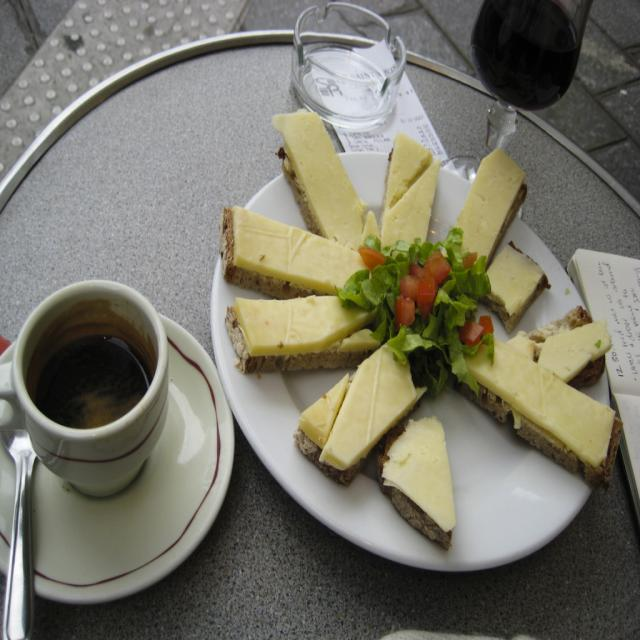Cheese: (462, 330, 620, 469), (292, 336, 433, 476), (267, 104, 376, 249), (232, 205, 368, 288), (376, 412, 450, 540), (452, 144, 530, 264), (232, 294, 374, 359), (371, 135, 436, 250), (541, 315, 616, 385), (484, 236, 544, 317)
